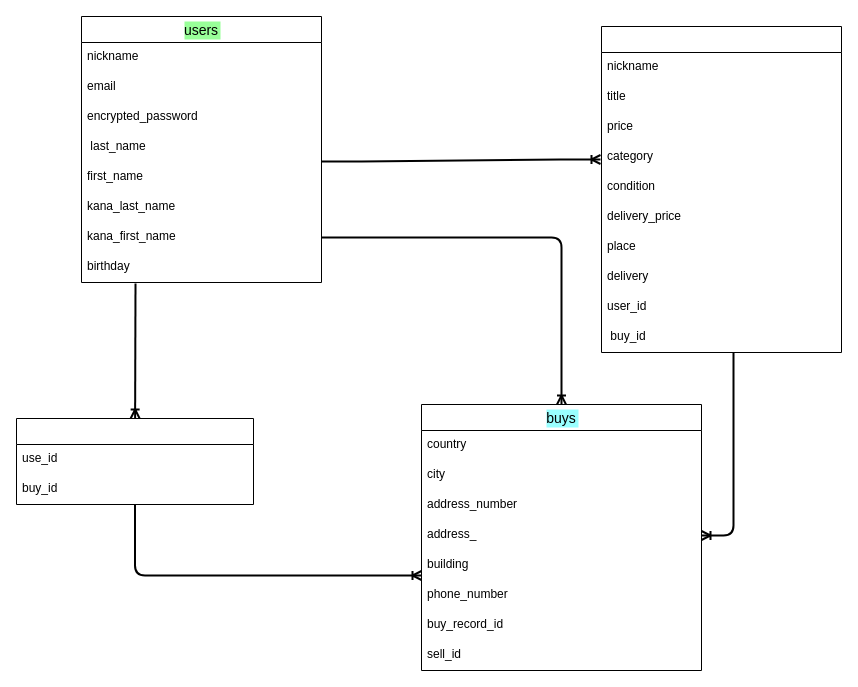
Image size: 858x687. Some labels were removed from this diagram. The box of each missing label's shape, as (x1, y1, x2, y2) in pixels:
buy_records: (16, 418, 254, 504)
sells: (600, 26, 842, 352)
